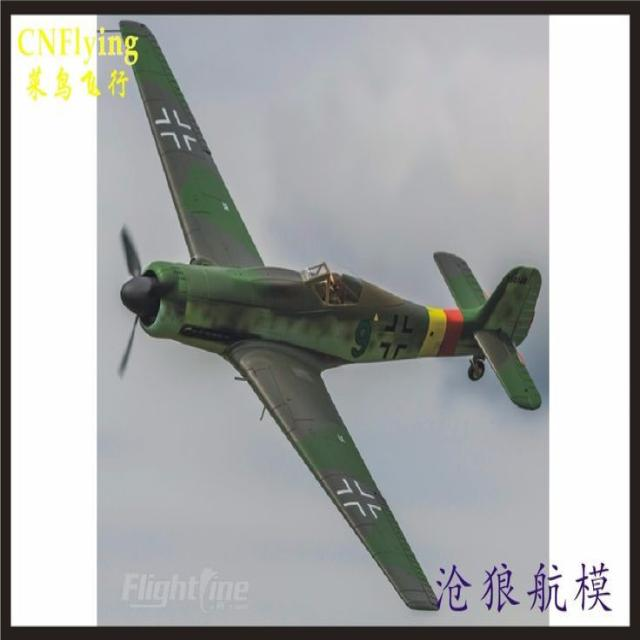iha: (104, 17, 540, 619)
